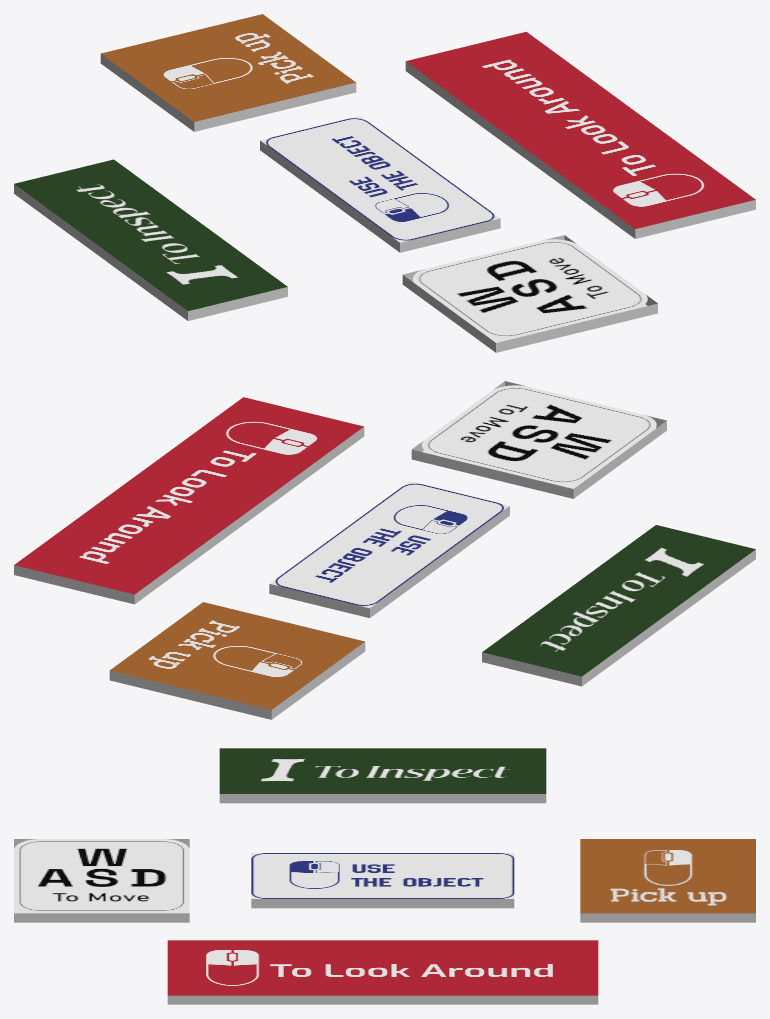
File: TutorialSign.fbx
The picture shows the model from 3 angles, top to bottom: view 1: azimuth 30°, elevation 25°; view 2: azimuth 150°, elevation 25°; view 3: azimuth 270°, elevation 25°; orthographic projection. The views are drawn at different scales.
Visible parts, largest first — view 1: Cube.003, Cube.002, Cube.001, Cube, Cube.004; view 2: Cube.003, Cube.002, Cube.001, Cube, Cube.004; view 3: Cube.003, Cube.002, Cube, Cube.001, Cube.004.
Boxes of the visible parts, x1,y1,x2,y2 form: Cube.003: (405, 31, 755, 238); Cube.002: (14, 159, 287, 320); Cube.001: (100, 14, 356, 131); Cube: (402, 235, 657, 352); Cube.004: (260, 116, 500, 252); Cube.003: (14, 397, 364, 604); Cube.002: (482, 525, 755, 686); Cube.001: (109, 602, 365, 719); Cube: (411, 381, 666, 498); Cube.004: (269, 481, 509, 617); Cube.003: (167, 940, 598, 1004); Cube.002: (219, 748, 546, 803); Cube: (14, 839, 189, 922); Cube.001: (580, 839, 755, 922); Cube.004: (251, 853, 514, 908).
Bounding box in the file's own units: 474 × 8.32 × 601.
6 materials, 5 textured.
